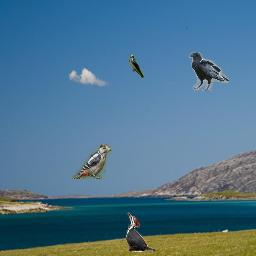Crow: (189, 52, 229, 91)
Swallow: (129, 54, 144, 78)
Woodpecker: (72, 144, 112, 179), (126, 212, 157, 252)
